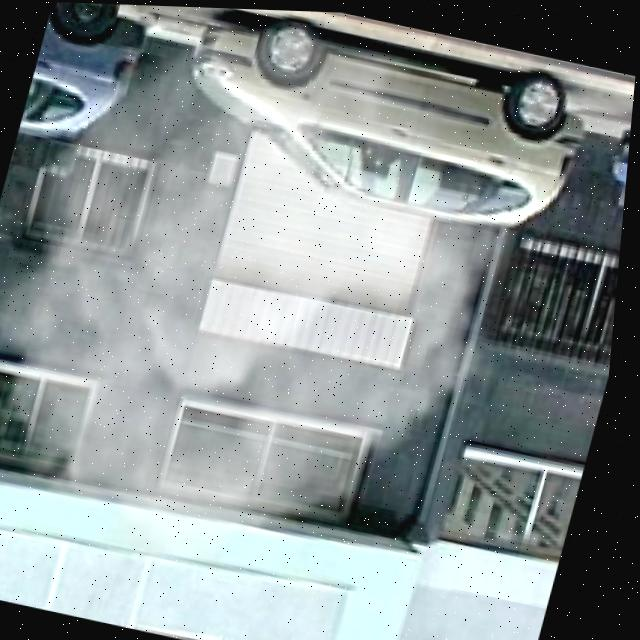Smoke: (0, 1, 575, 607)
